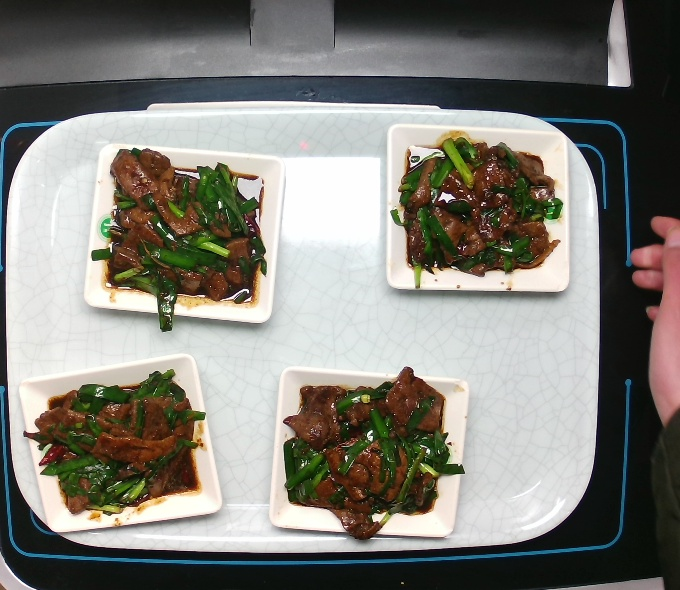wcq-ZhuGan: (31, 368, 201, 522), (396, 133, 566, 287), (283, 372, 453, 526), (106, 149, 276, 303)
